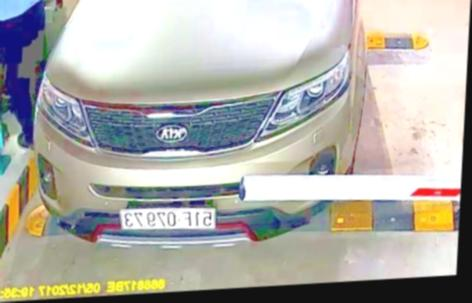License_Plate: (114, 196, 219, 238)
